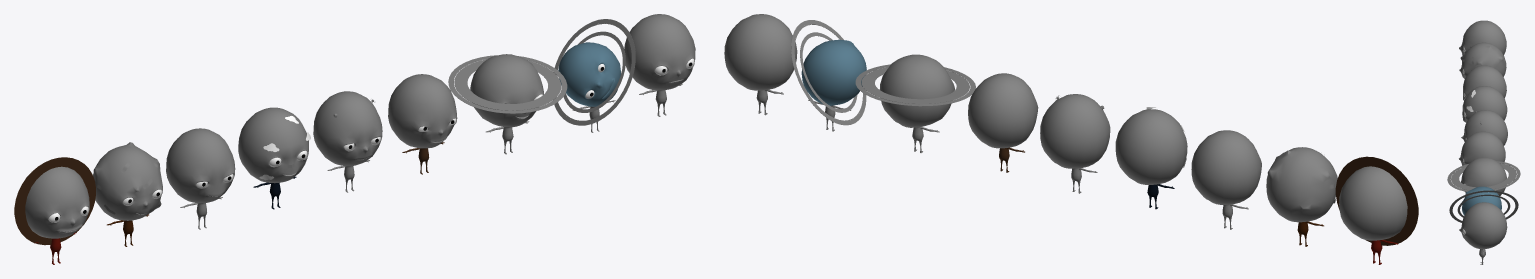
The model's file is CartoonPlanets.FBX.
3 renders of one model, left to right at view 1: azimuth 30°, elevation 25°; view 2: azimuth 150°, elevation 25°; view 3: azimuth 270°, elevation 25°, orthographic. The views are drawn at different scales.
Visible parts, largest first — view 1: Neptune, Mercury, Mars, Jupiter, Venus, Earth, Saturn, Sun, Uran, SaturnRing, Cylinder001, UranRing001 (+1 smaller); view 2: Neptune, Earth, Mercury, Venus, Mars, Jupiter, Sun, Saturn, Uran, SaturnRing, Cylinder001, UranRing001 (+1 smaller); view 3: Neptune, Saturn, Jupiter, Earth, Mercury, Sun, Mars, Venus, SaturnRing, Uran, UranRing001, UranRing (+1 smaller).
Boxes of the visible parts, x1,y1,x2,y2 form: Neptune: (624, 14, 695, 116); Mercury: (93, 142, 162, 246); Mars: (313, 91, 382, 192); Jupiter: (388, 74, 457, 174); Venus: (166, 128, 235, 229); Earth: (238, 107, 308, 209); Saturn: (470, 54, 543, 154); Sun: (25, 166, 89, 264); Uran: (558, 42, 620, 132); SaturnRing: (448, 55, 567, 113); Cylinder001: (14, 157, 95, 245); UranRing001: (553, 19, 635, 125); Neptune: (724, 14, 797, 115); Earth: (1115, 109, 1187, 209); Mercury: (1266, 147, 1337, 246); Venus: (1191, 130, 1261, 229); Mars: (1040, 94, 1110, 193); Jupiter: (968, 73, 1038, 172); Sun: (1339, 166, 1407, 264); Saturn: (879, 54, 954, 152); Uran: (801, 39, 866, 131); SaturnRing: (855, 64, 975, 106); Cylinder001: (1335, 156, 1418, 245); UranRing001: (791, 20, 866, 125); Neptune: (1459, 202, 1507, 264); Saturn: (1461, 157, 1506, 195); Jupiter: (1459, 131, 1505, 165); Earth: (1462, 86, 1507, 122); Mercury: (1459, 42, 1506, 78); Sun: (1459, 20, 1506, 55); Mars: (1461, 110, 1507, 145); Venus: (1463, 65, 1506, 100); SaturnRing: (1447, 161, 1520, 191); Uran: (1461, 186, 1501, 215); UranRing001: (1449, 190, 1518, 222); UranRing: (1457, 194, 1510, 217).
Size of the model in its own units: 10758 by 1600 by 1630.
